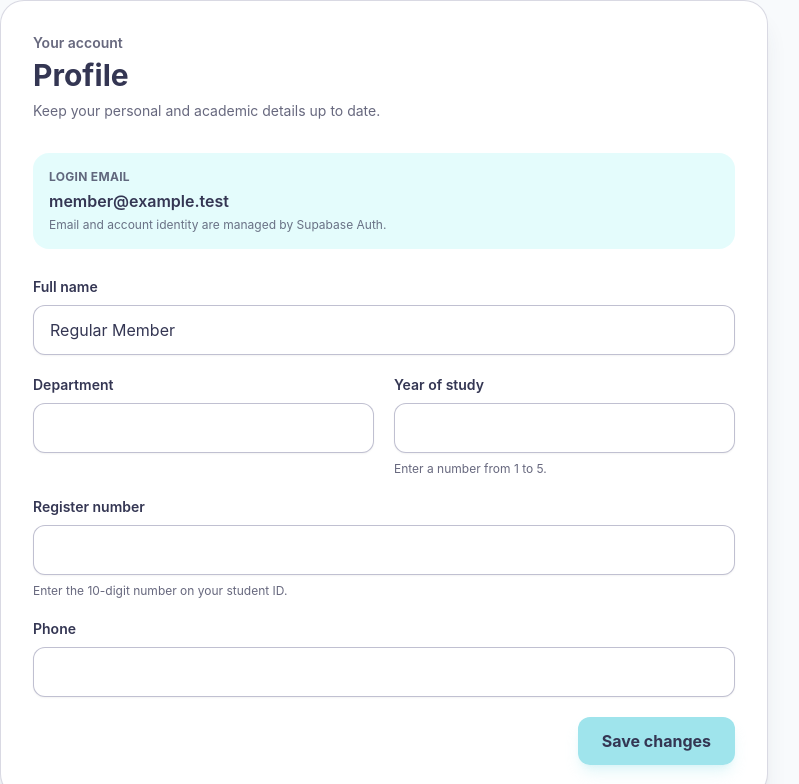
Test: profile form › does not report success when RLS returns no updated row
Click the button "Save changes".
click(656, 741)  # box [578,717,735,765]
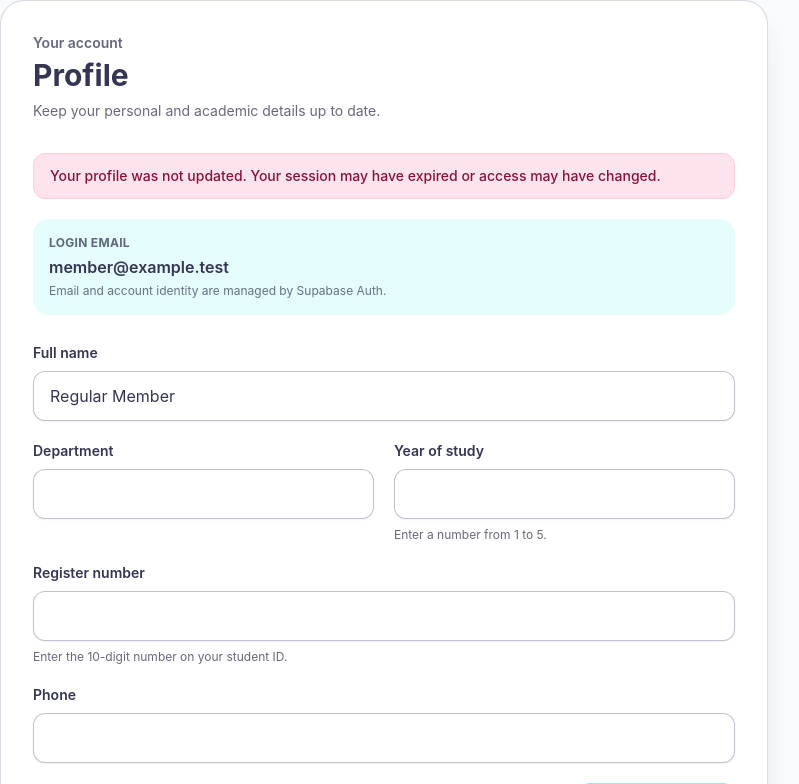
Result: the message shows "Your profile was not updated." at [50,167,661,184]
